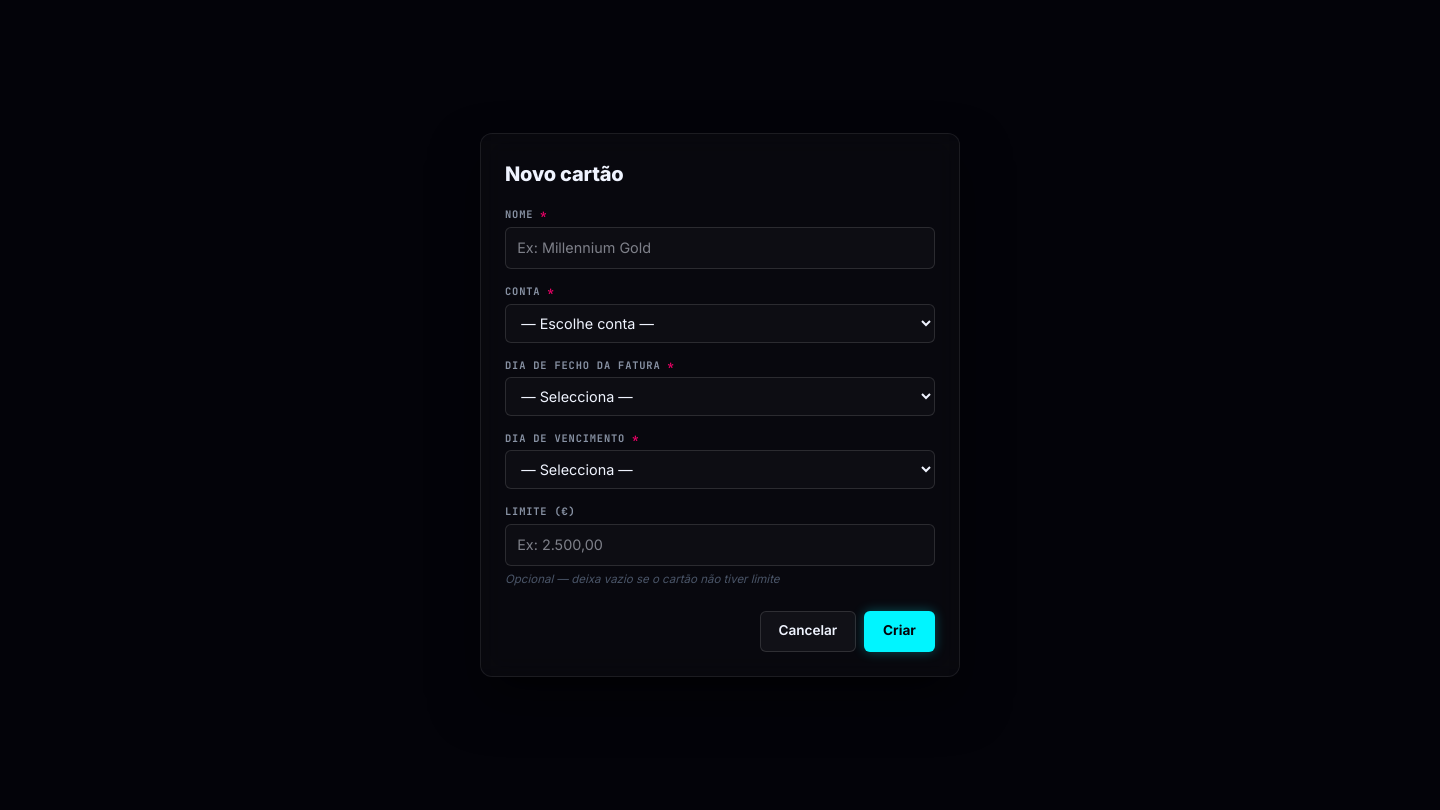
Test: CardFormModal (Story 9.1b / cobertura finanças) › caminho de erro 2 — limite mal-formado mostra erro de parsing
In the field with id "card-name": (720, 248) [505,227,935,269], type "Millennium Gold"
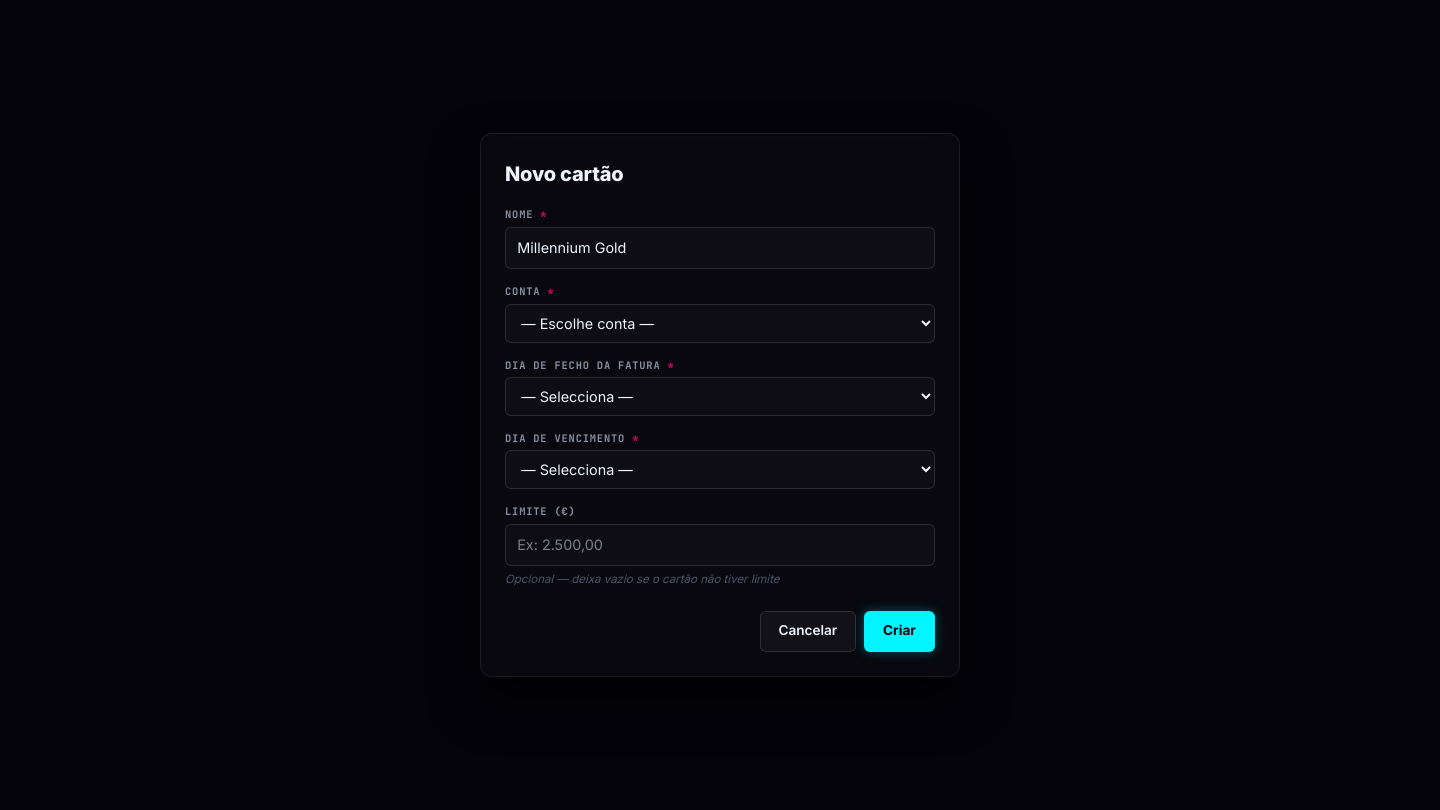
Select "Conta Principal" in the dropdown with id "card-account": (720, 323) [505,304,935,342]
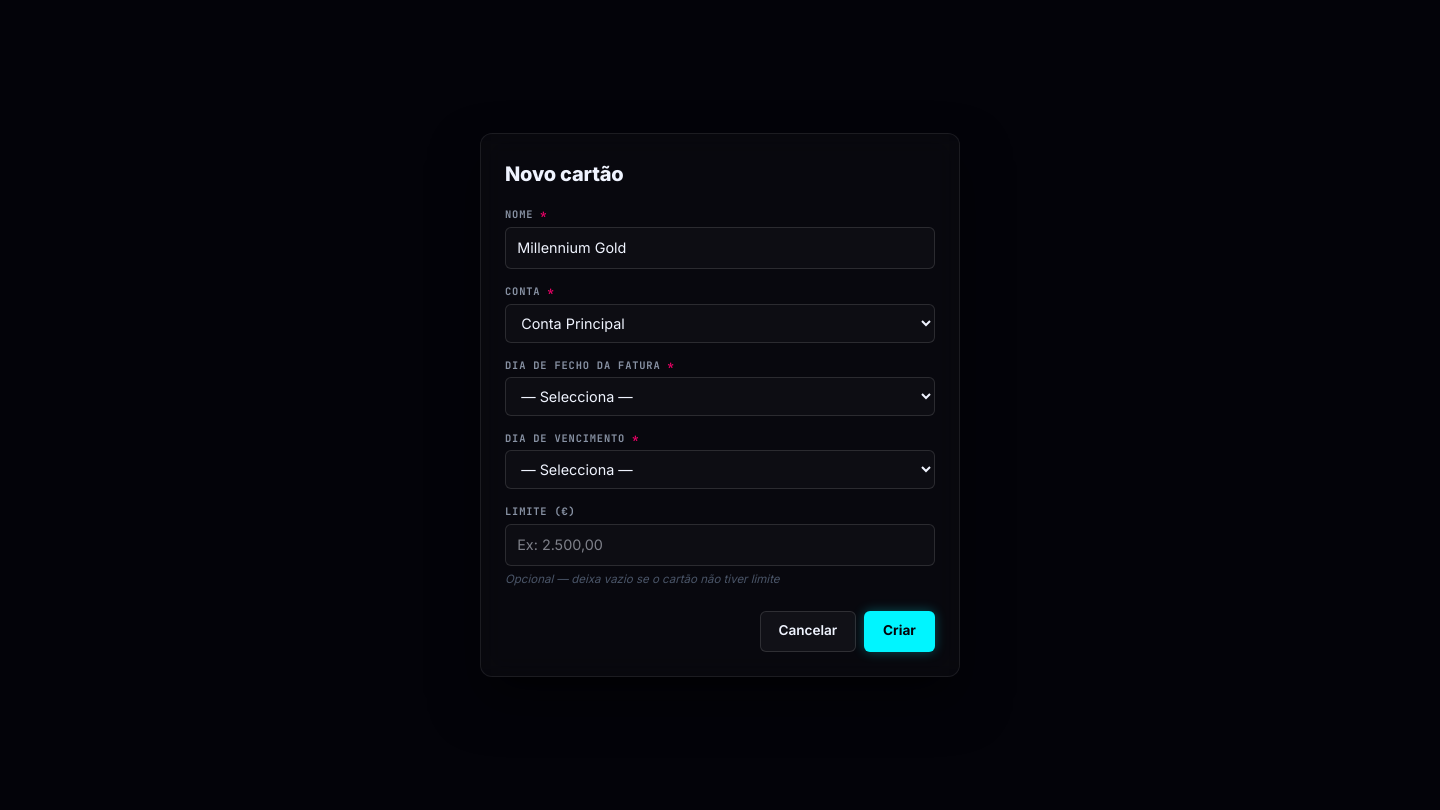
Select "10" in the dropdown with id "card-closing-day": (720, 396) [505,377,935,416]
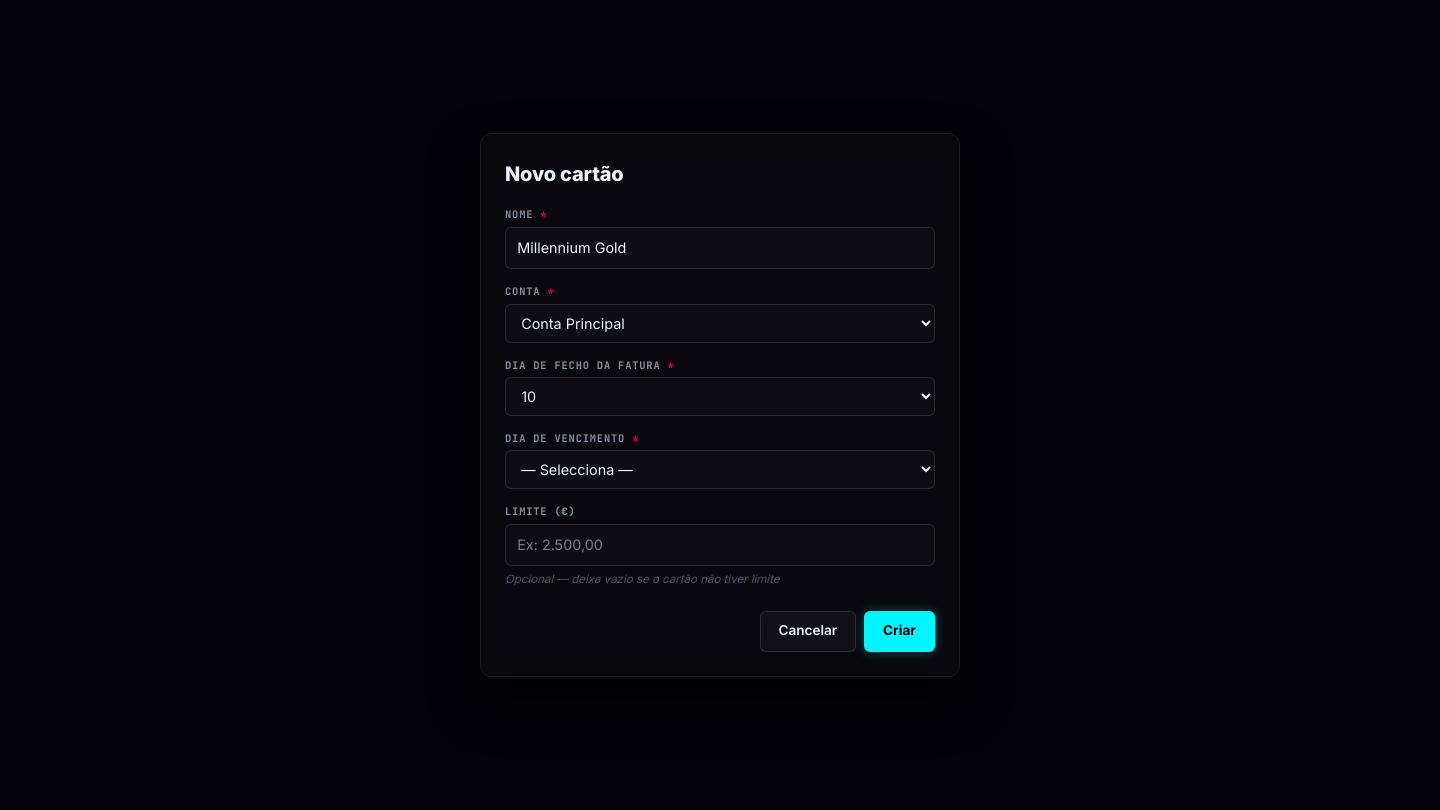
Select "20" in the dropdown with id "card-due-day": (720, 470) [505,450,935,489]
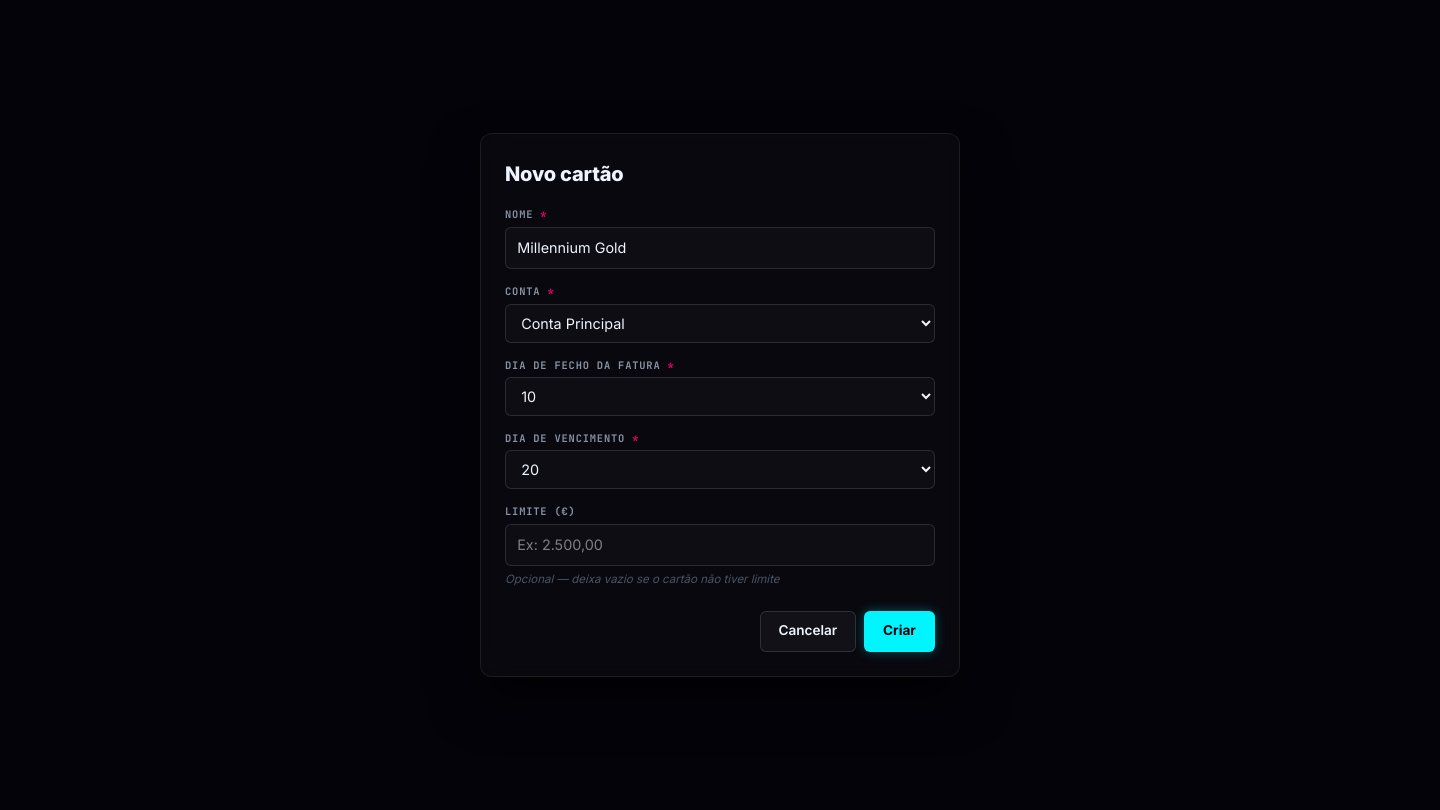
In the field with id "card-limit": (720, 545) [505,524,935,566], type "xyz"
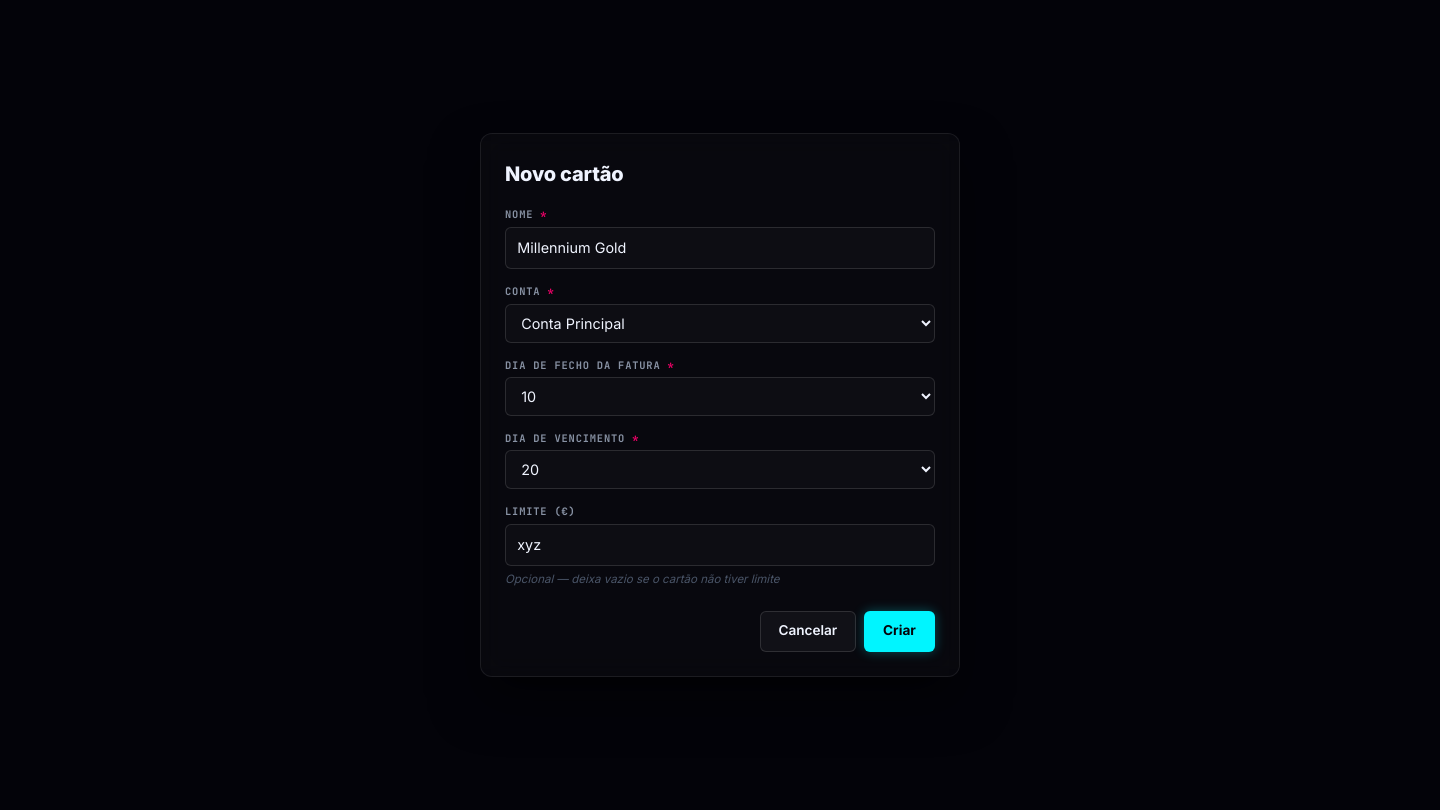
Click the button "Criar": (899, 631) [864,611,935,652]
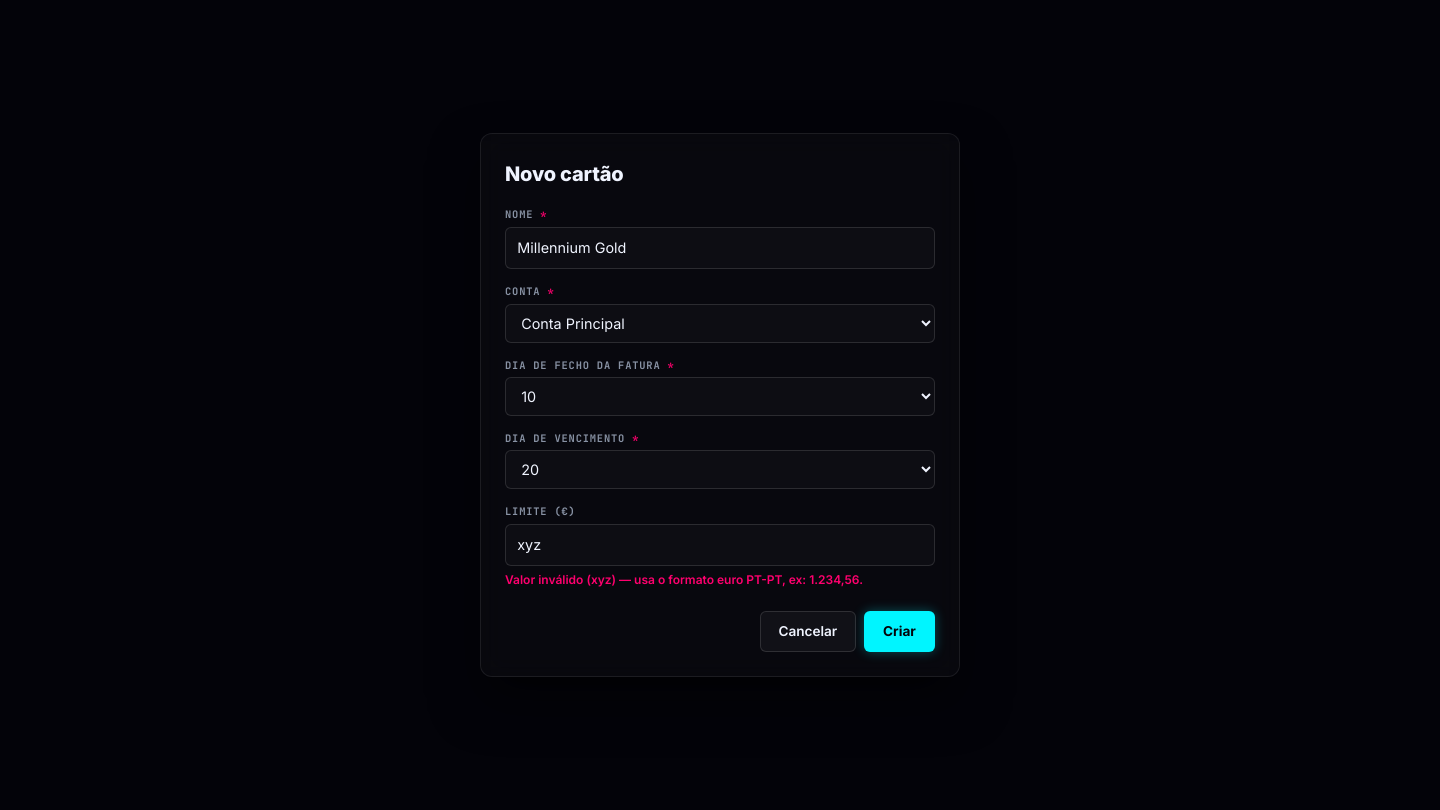
Expected: the message shows "Valor inválido", [505,572,863,587]
